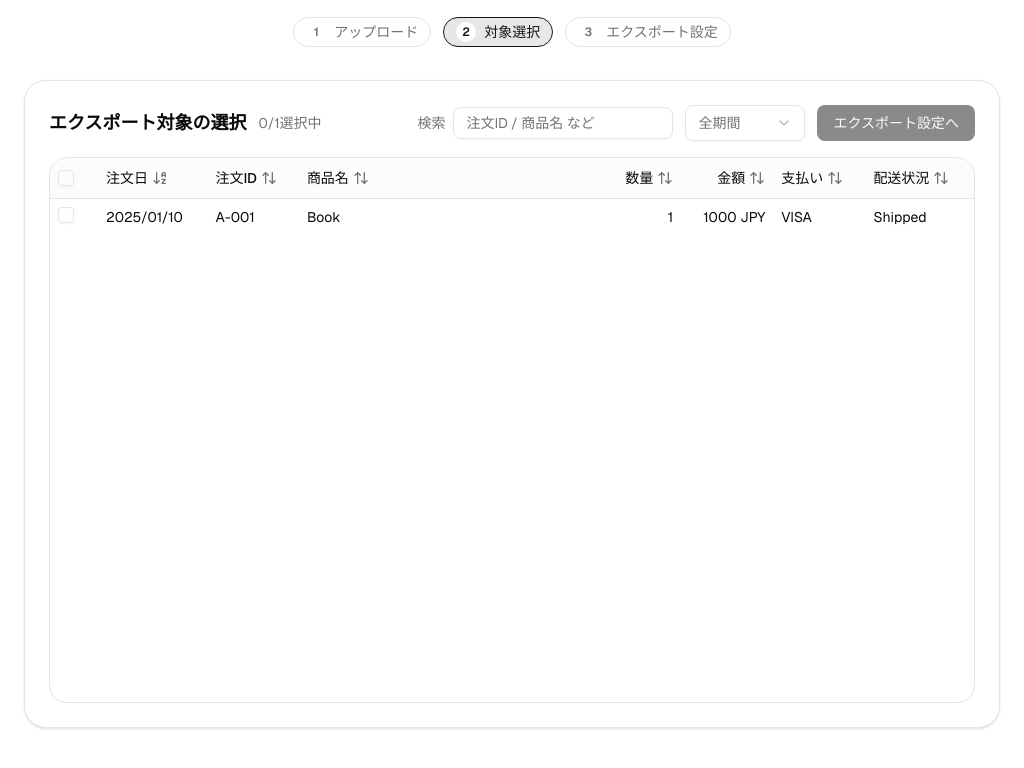
Test: SelectStep › toggles row selection by row click
Expected: the text "0/1選択中" is shown, [258,113,322,133]
Click the text "A-001" at (253, 216), box [207,198,299,234]
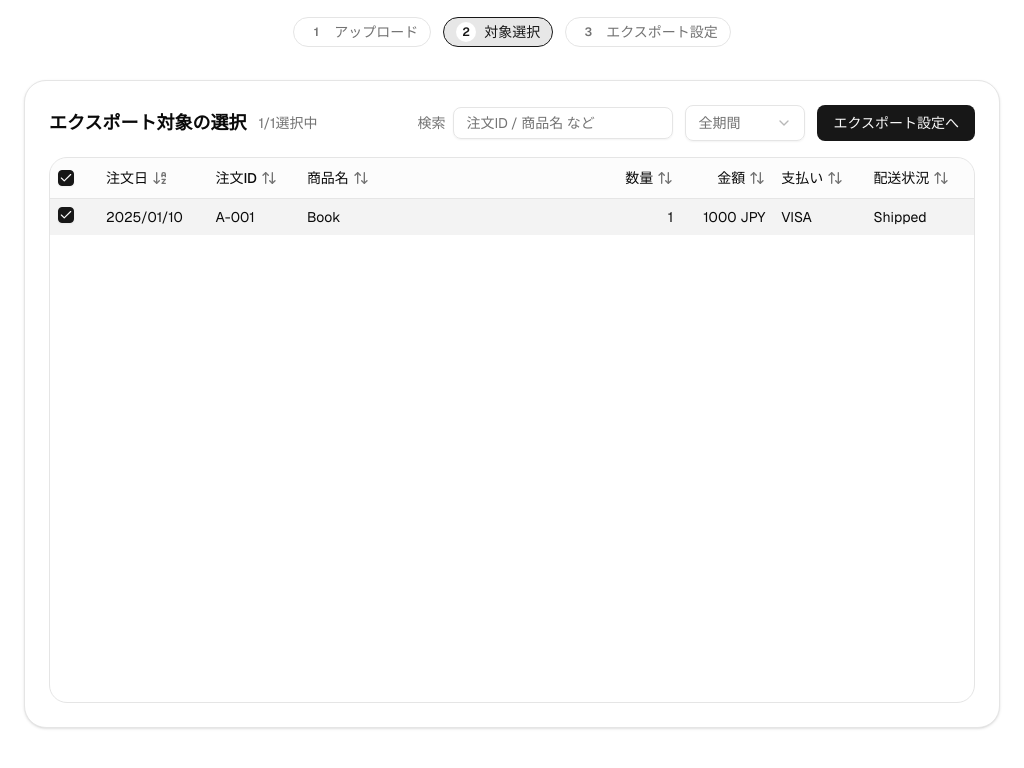
Expected: the text "1/1選択中" is shown, [258,113,318,133]
